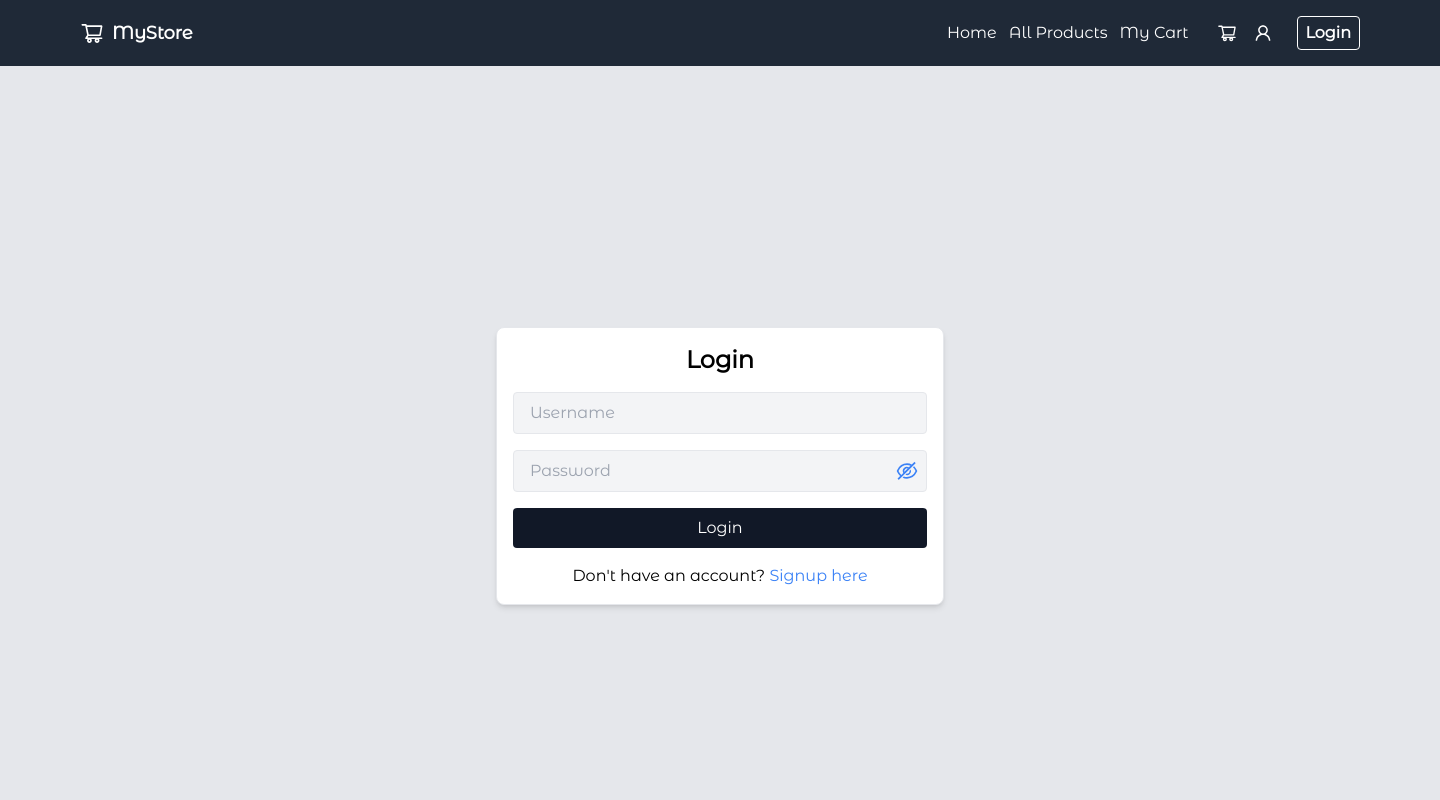
Test: login › attempt to login without inputting password
In the field with placeholder "Username": [720, 413] box [513,392,927,434], type "Mojisola"
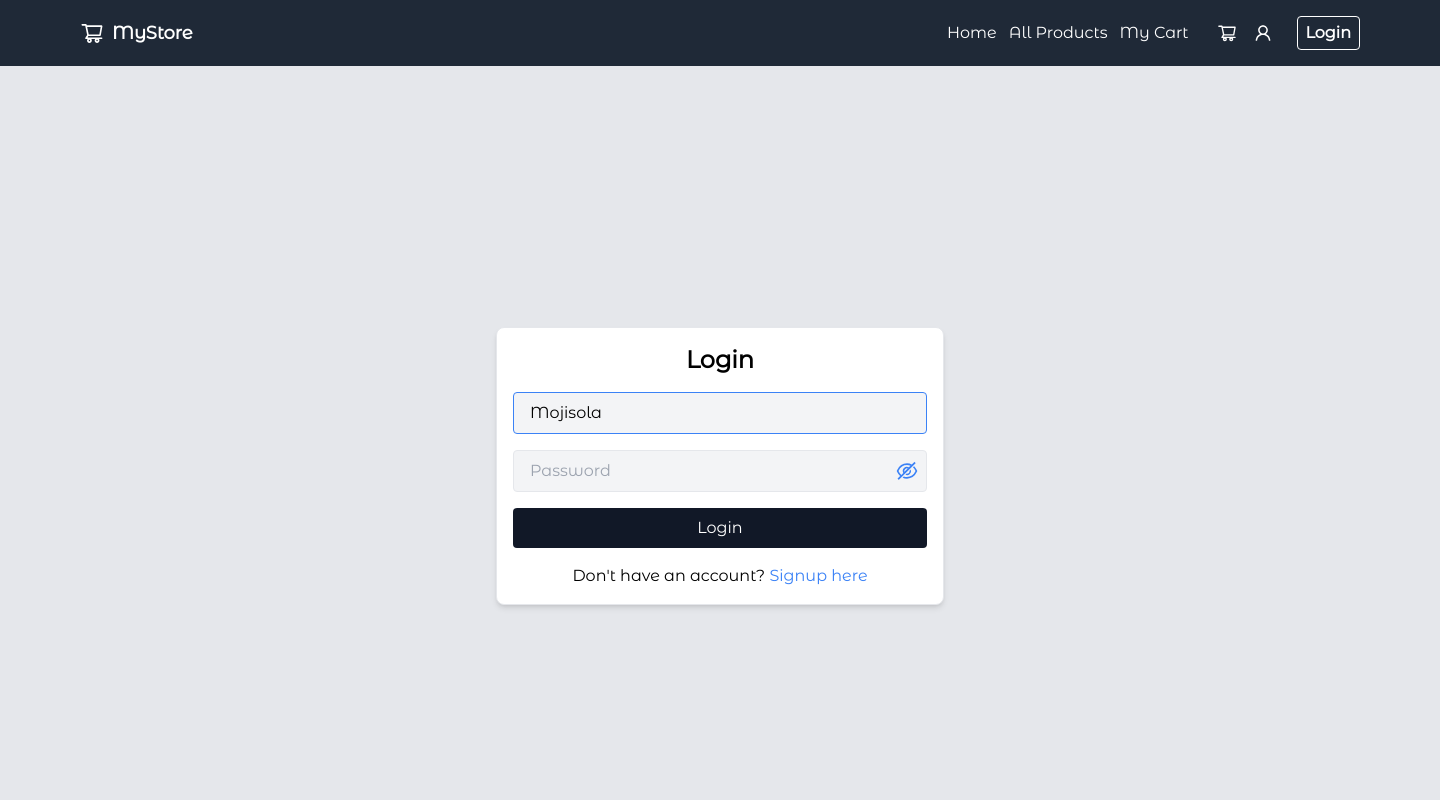
Click the submit button: [720, 528] box [513,508,927,548]
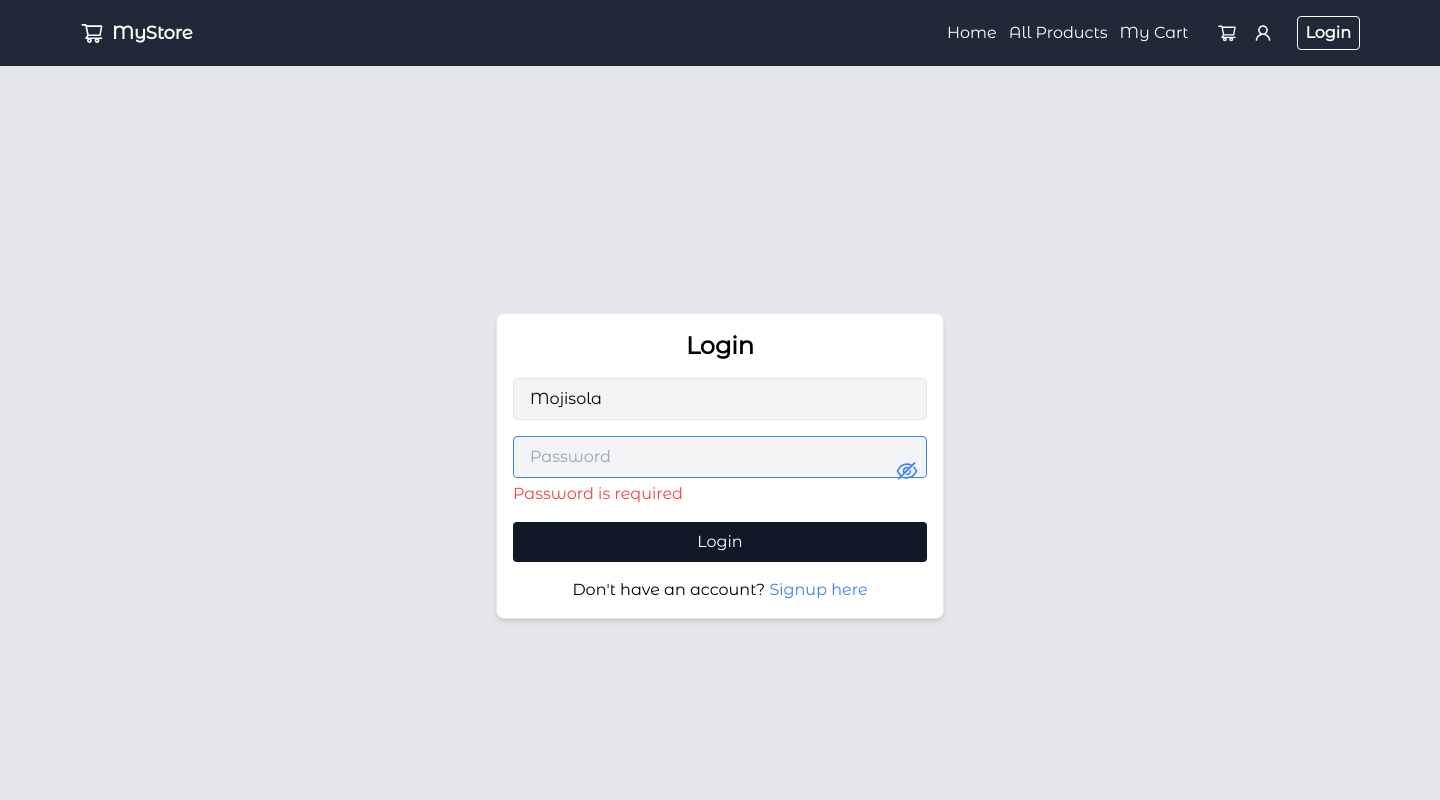
Now the text "Password is required" is shown, box [513,484,683,503]
